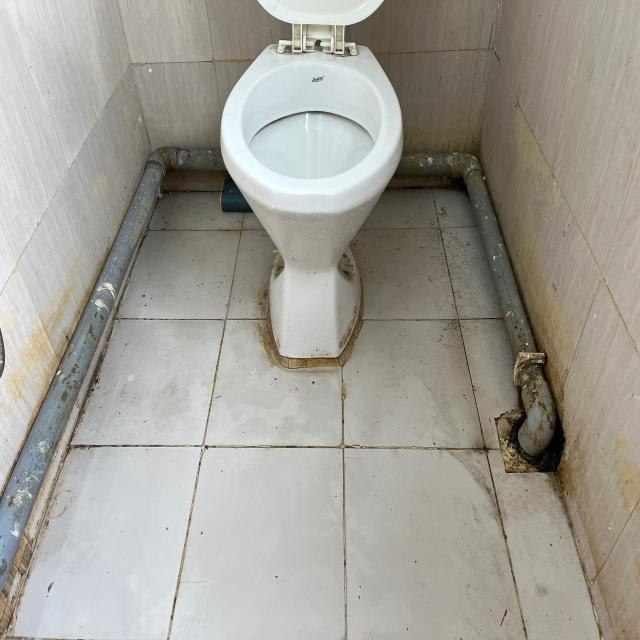dirty_floor: (1, 1, 637, 637), (216, 3, 407, 369)
